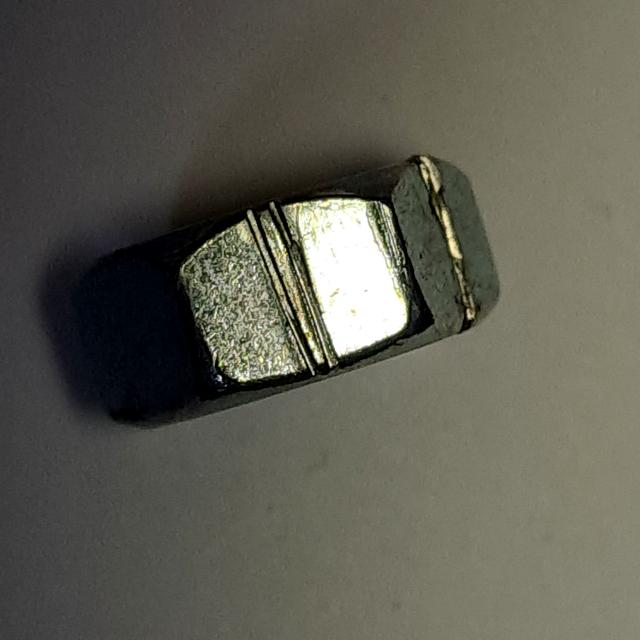Side_Scratches: (53, 132, 519, 447)
